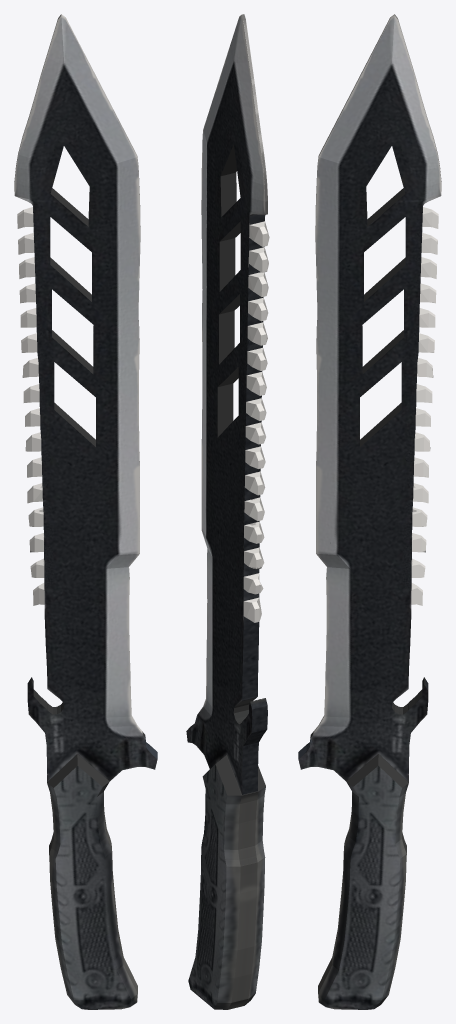
The model's file is elite_force_f712_machete_model.fbx.
The picture shows the model from 3 angles, left to right: view 1: azimuth 90°, elevation 25°; view 2: azimuth 210°, elevation 25°; view 3: azimuth 270°, elevation 25°; orthographic projection.
Visible parts, largest first — view 1: elite_force_f712_machete; view 2: elite_force_f712_machete; view 3: elite_force_f712_machete.
Boxes of the visible parts, box(x1,y1,x2,y2) form: elite_force_f712_machete: box(14, 14, 157, 1009); elite_force_f712_machete: box(186, 14, 269, 1009); elite_force_f712_machete: box(298, 14, 441, 1009).
Size of the model in its own units: 0.0142 by 0.3515 by 0.0461.
